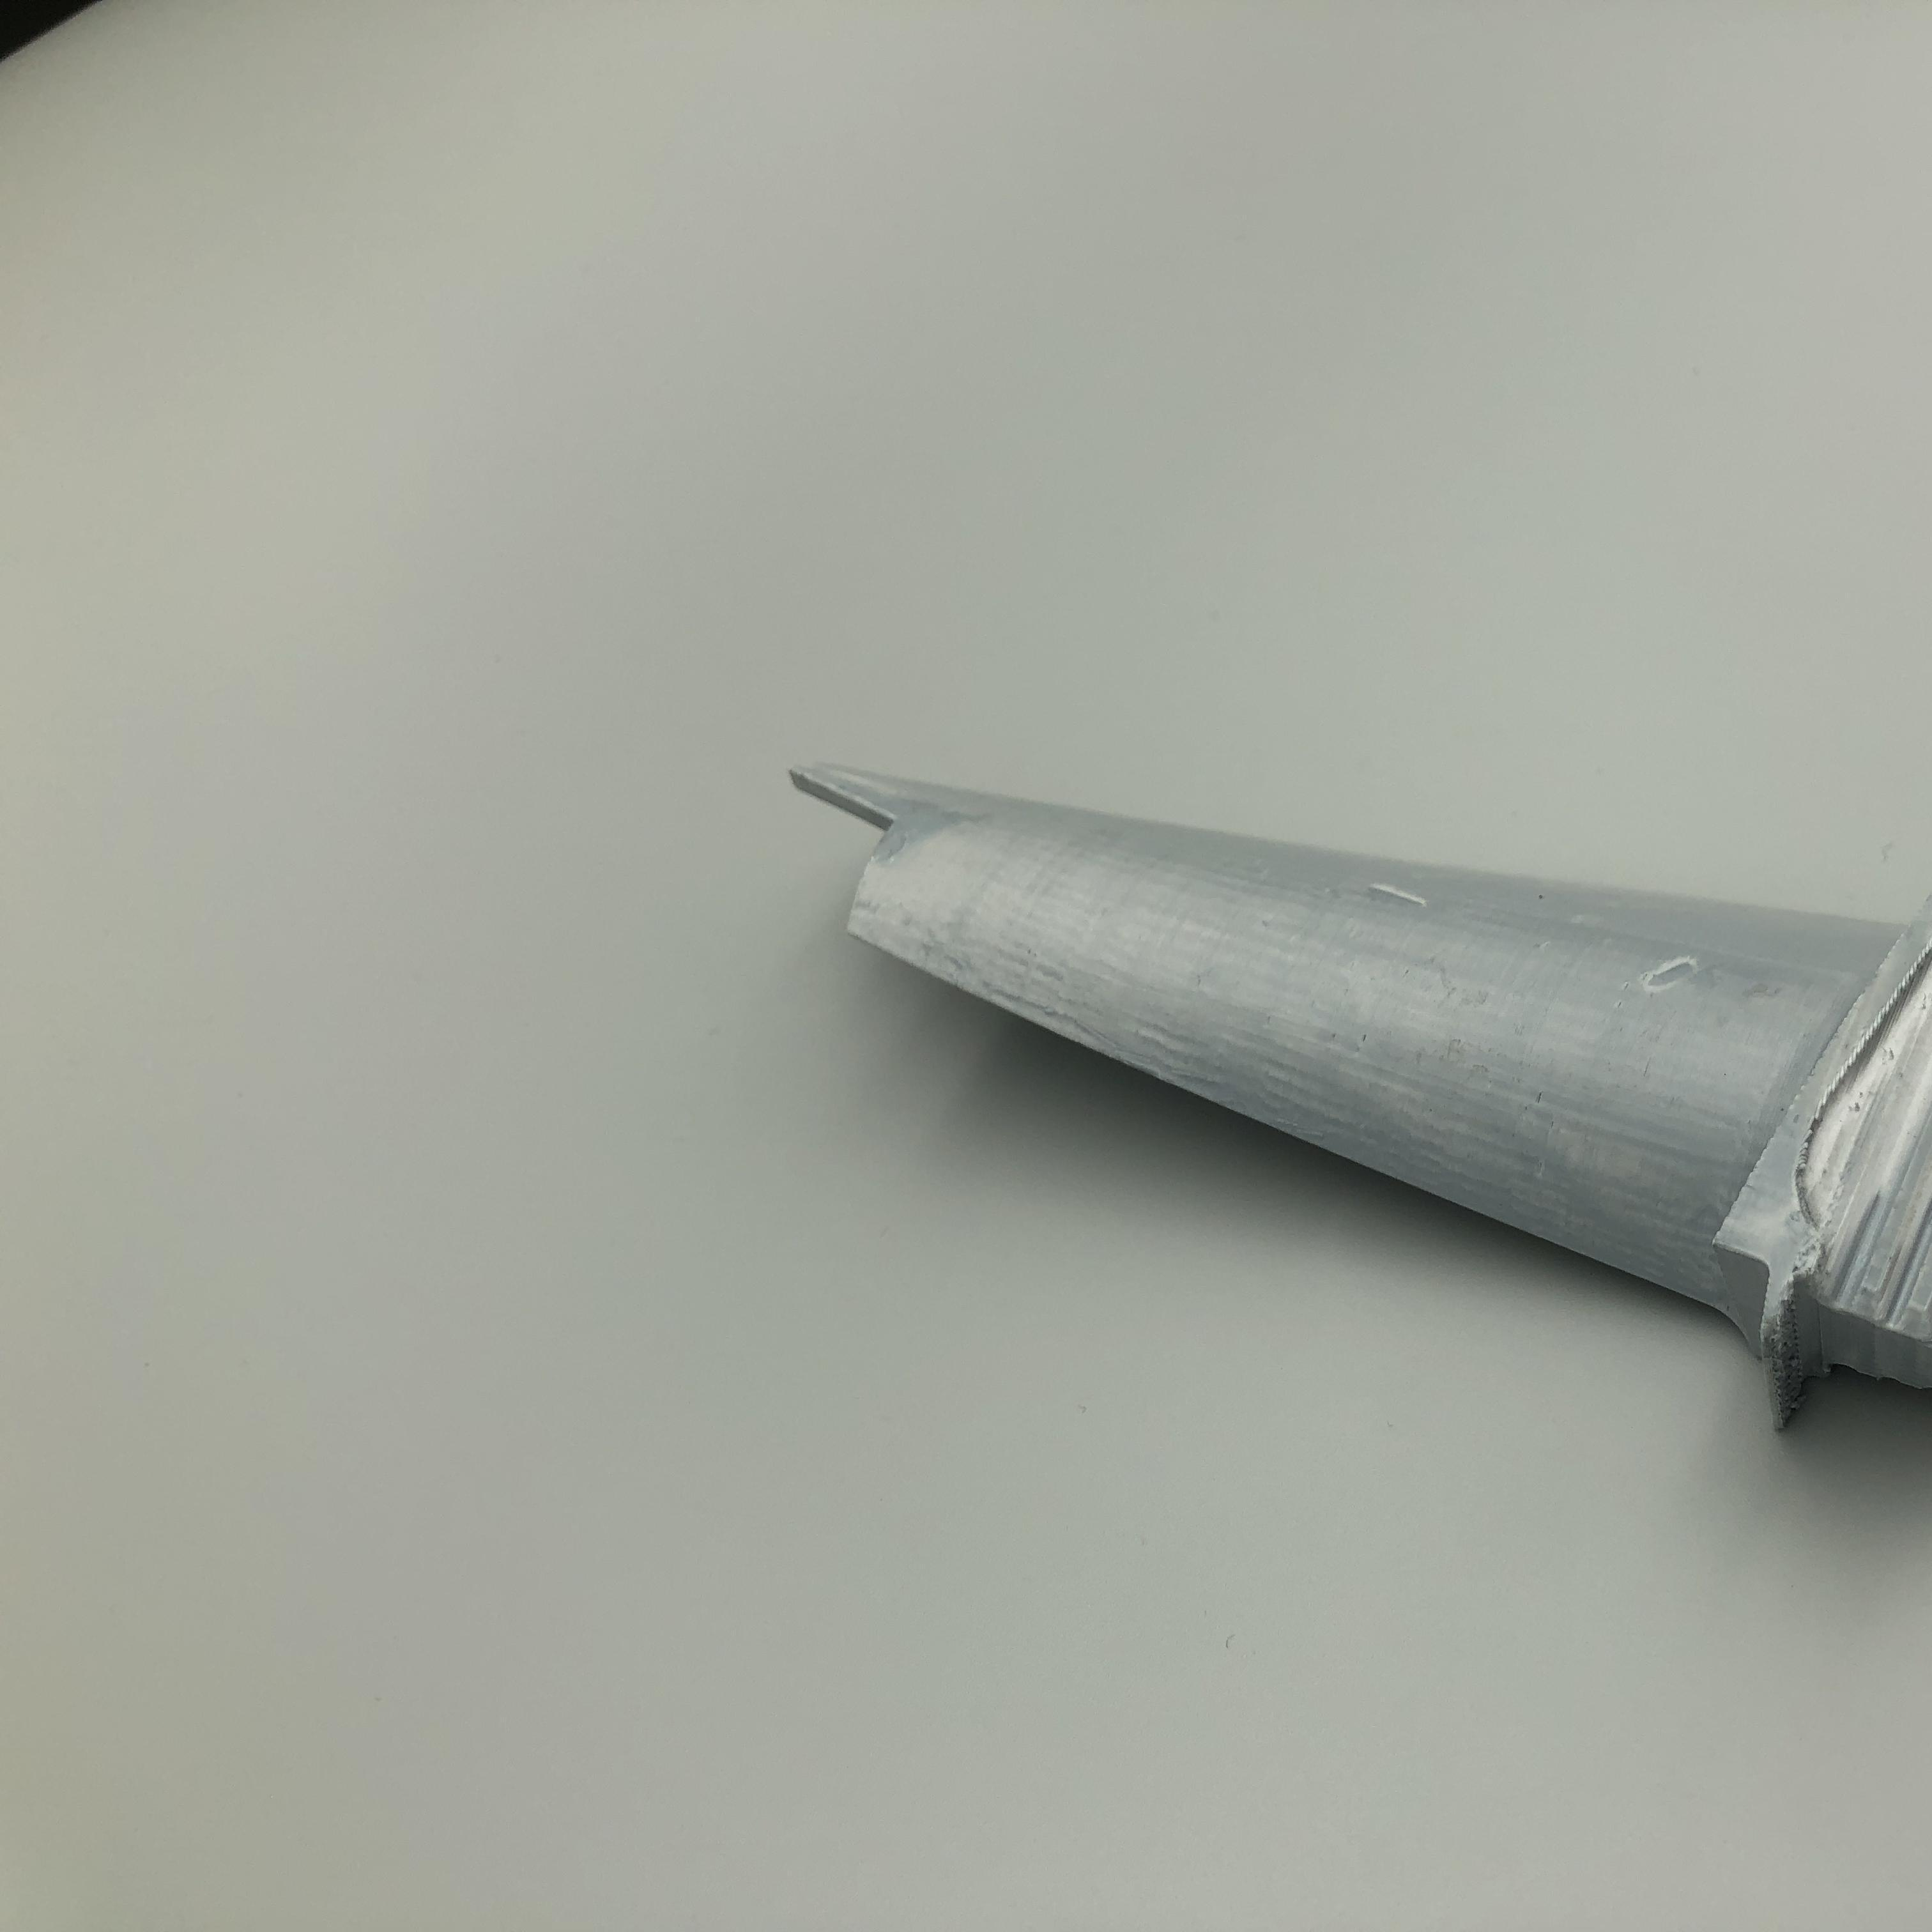fracture: (777, 761, 913, 948)
